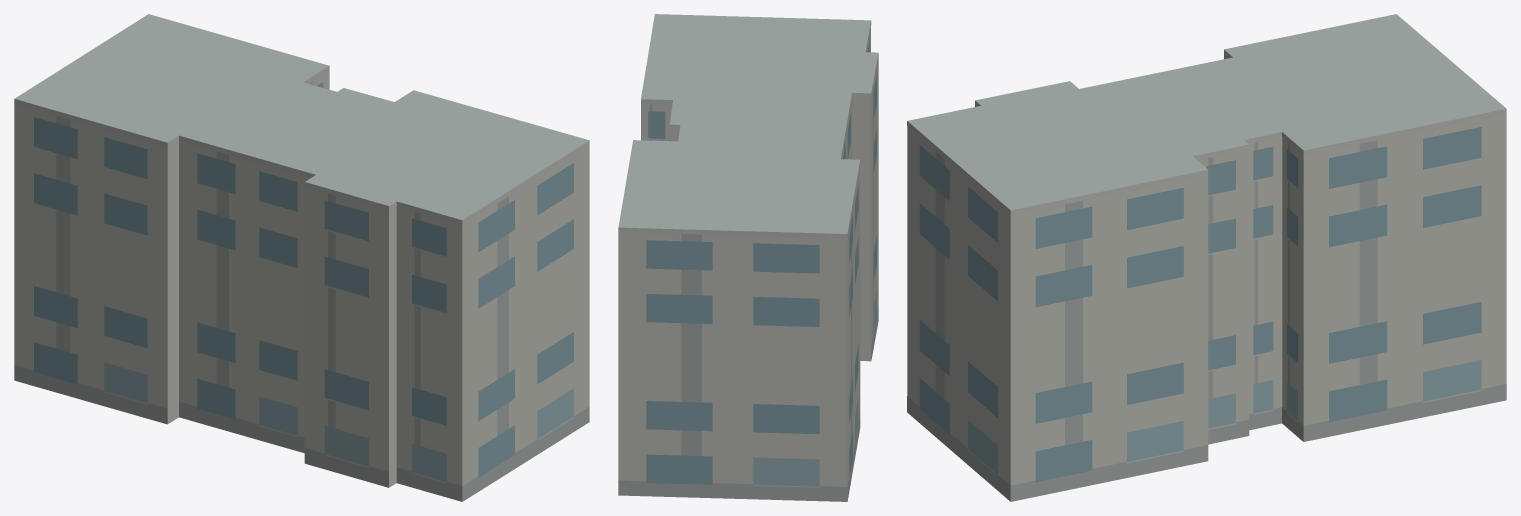
Rendered from survey-upis-32836658.glb.
3 views of the same model, side by side, from view 1: azimuth 30°, elevation 25°; view 2: azimuth 150°, elevation 25°; view 3: azimuth 270°, elevation 25° (orthographic). The views are drawn at different scales.
Parts seen in each view (by area): view 1: survey-upis-32836658.tmp; view 2: survey-upis-32836658.tmp; view 3: survey-upis-32836658.tmp.
Boxes of the visible parts, bbox=[...] form: survey-upis-32836658.tmp: bbox=[14, 14, 589, 501]; survey-upis-32836658.tmp: bbox=[618, 14, 878, 501]; survey-upis-32836658.tmp: bbox=[907, 14, 1506, 501].
Size of the model in its own units: 19.81 by 13.7 by 25.55.
